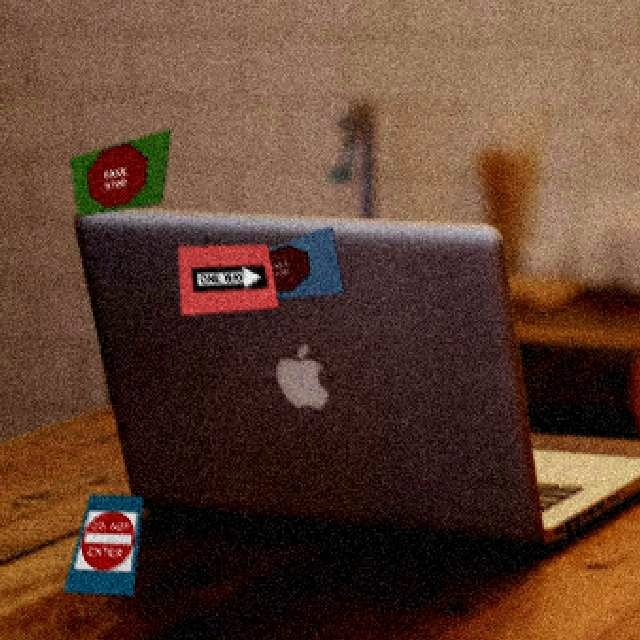DO_NOT_ENTER: (72, 507, 141, 574)
FAKE_STOP: (84, 136, 153, 209), (249, 238, 313, 301)
ONE_WAY_ right: (189, 264, 267, 292)
